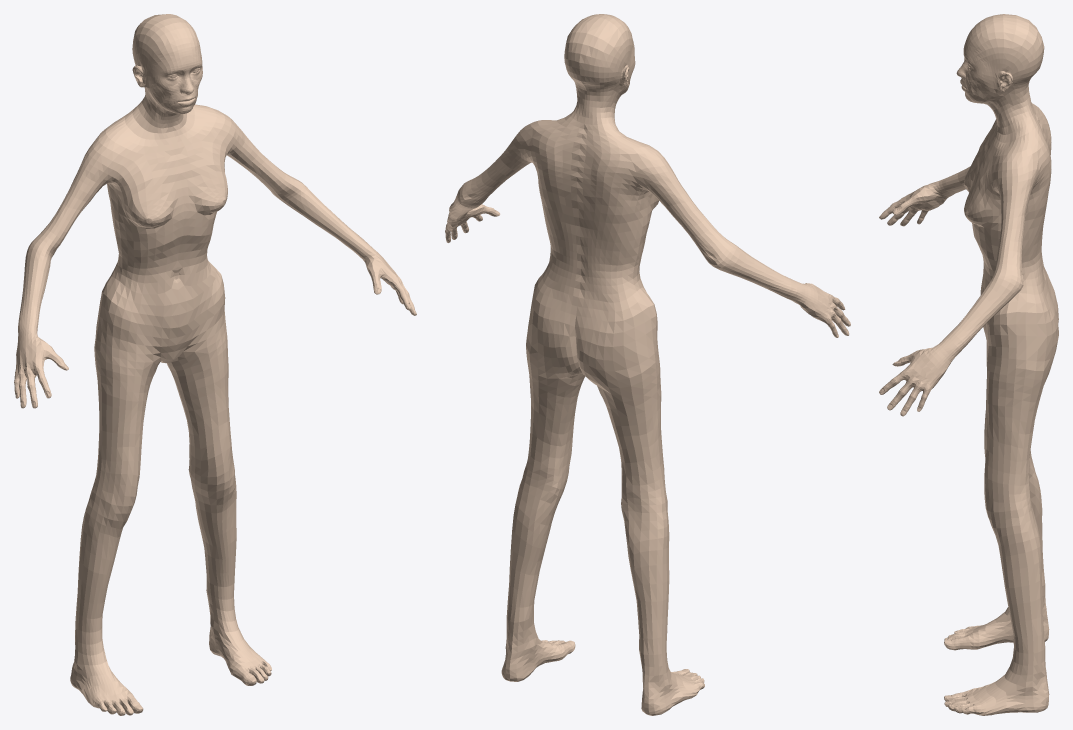
File: female-mature-lean-low.glb
3 views of the same model, side by side, from view 1: azimuth 30°, elevation 25°; view 2: azimuth 150°, elevation 25°; view 3: azimuth 270°, elevation 25° (orthographic).
Visible parts, largest first — view 1: world; view 2: world; view 3: world.
Boxes of the visible parts, bbox=[...] form: world: bbox=[14, 14, 416, 715]; world: bbox=[445, 14, 850, 715]; world: bbox=[879, 14, 1058, 715].
Size of the model in its own units: 1.12 by 1.81 by 0.4466.
